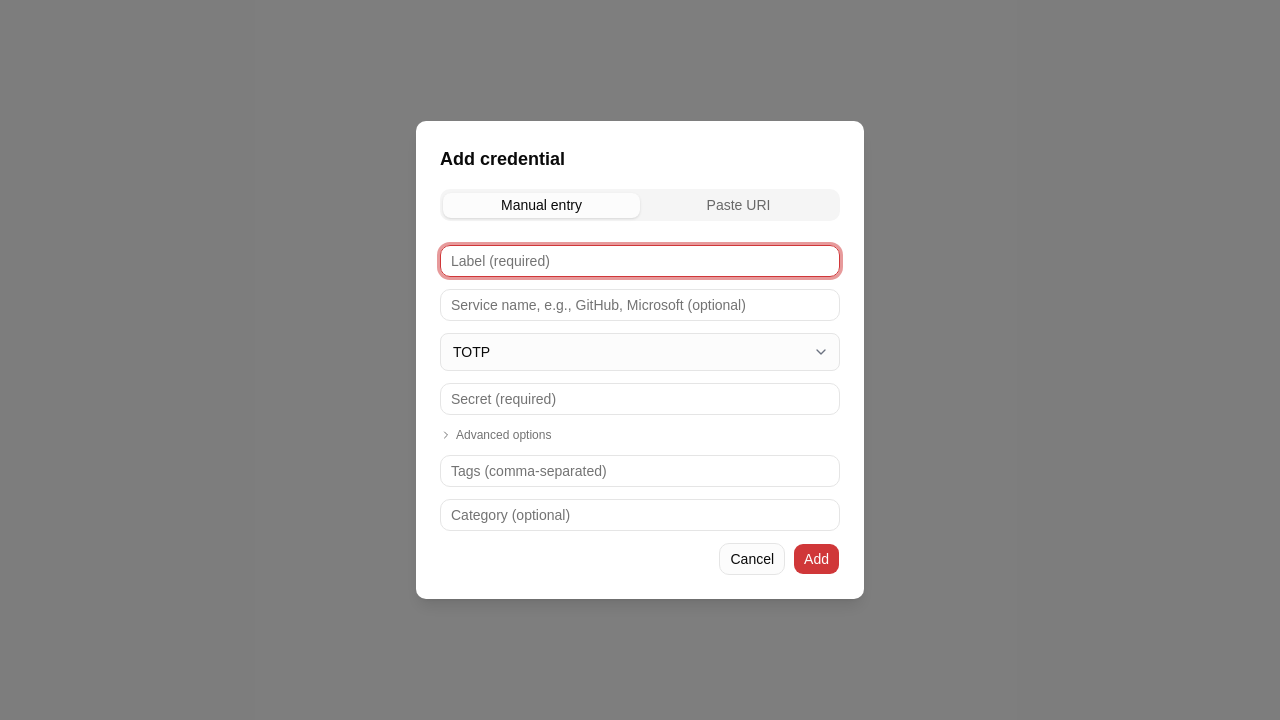
Test: AddCredentialDialog › shows 'Label and secret are required' when submitting empty form
Step 1. Click the button "Add" → (817, 559), box [793,543,840,575]
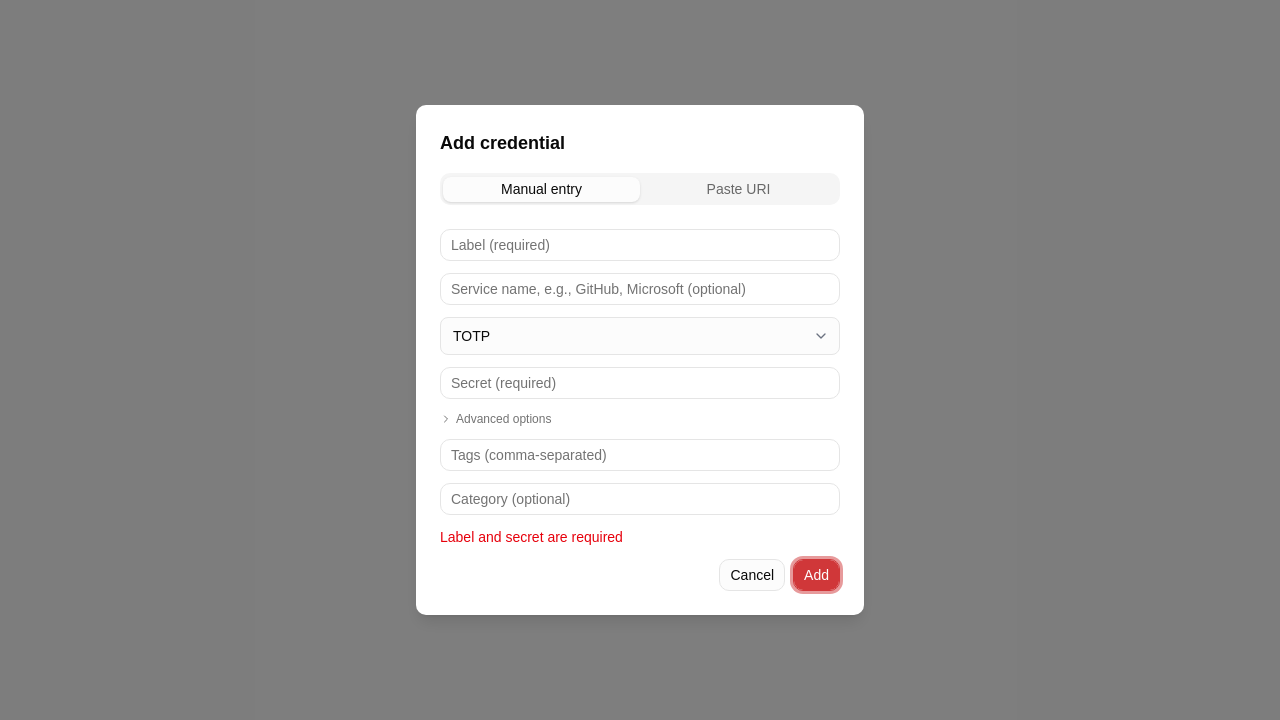
Check: the text "Label and secret are required" is shown, box [440,529,623,545]
